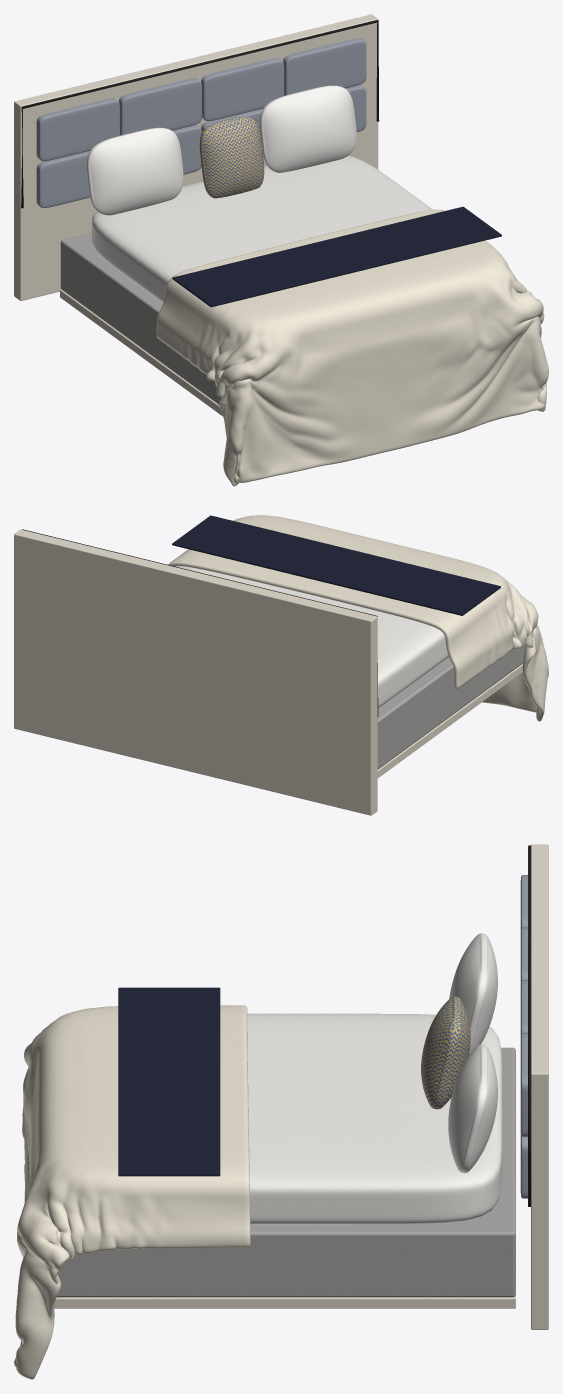
The model's file is traverten-bed-set--bed.glb.
3 views of the same model, one above another, from view 1: azimuth 30°, elevation 25°; view 2: azimuth 150°, elevation 25°; view 3: azimuth 270°, elevation 25° (orthographic). The views are drawn at different scales.
Parts seen in each view (by area): view 1: duvet, mattress, headframe, runner, base, pillow0, pillow2, pillow1, pad21, pad01, pad11, pad31 (+5 smaller); view 2: headframe, duvet, runner, base, mattress, plinth, outline; view 3: mattress, duvet, base, runner, headframe, plinth, pillow2, pillow1, pillow0, outline, pad31.
Part boxes in pixels (<box>): duvet: <box>156,209,548,486</box>; mattress: <box>92,155,432,302</box>; headframe: <box>14,14,378,300</box>; runner: <box>172,206,501,307</box>; base: <box>60,233,221,403</box>; pillow0: <box>86,127,183,215</box>; pillow2: <box>259,85,356,172</box>; pillow1: <box>199,116,264,198</box>; pad21: <box>201,58,284,121</box>; pad01: <box>36,98,119,161</box>; pad11: <box>119,78,201,135</box>; pad31: <box>283,38,366,95</box>; headframe: <box>14,529,377,815</box>; duvet: <box>168,515,548,721</box>; runner: <box>172,515,500,615</box>; base: <box>377,645,525,769</box>; mattress: <box>175,566,448,707</box>; plinth: <box>377,663,522,777</box>; outline: <box>22,529,378,716</box>; mattress: <box>247,1013,502,1224</box>; duvet: <box>14,1005,250,1379</box>; base: <box>57,1047,515,1297</box>; runner: <box>118,987,220,1176</box>; headframe: <box>531,844,548,1329</box>; plinth: <box>54,1295,515,1308</box>; pillow2: <box>448,1044,497,1173</box>; pillow1: <box>421,996,470,1109</box>; pillow0: <box>449,933,497,1055</box>; outline: <box>528,845,530,1206</box>; pad31: <box>520,1033,527,1136</box>.
Size of the model in its own units: 2.4 by 1.6 by 2.36.
9 materials, 7 textured.
